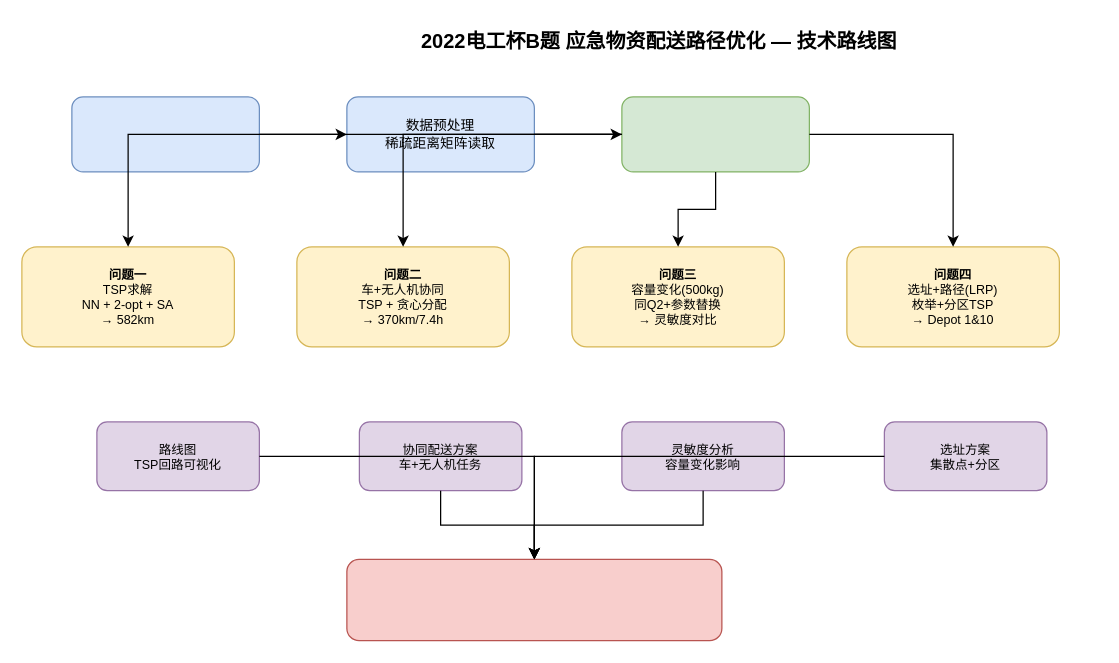
The diagram is 1119 pixels wide and 663 high, and some of its shapes have lost their labels. Here are the shapes that lost their labels. From the top down, the centre of each, then its label:
At point 165,134: "题目分析 4个子问题拆解".
At point 715,134: "Floyd-Warshall 全对最短路径".
At point 534,599: "论文撰写与验证 Word + LaTeX 双格式 数值一致性校验".
